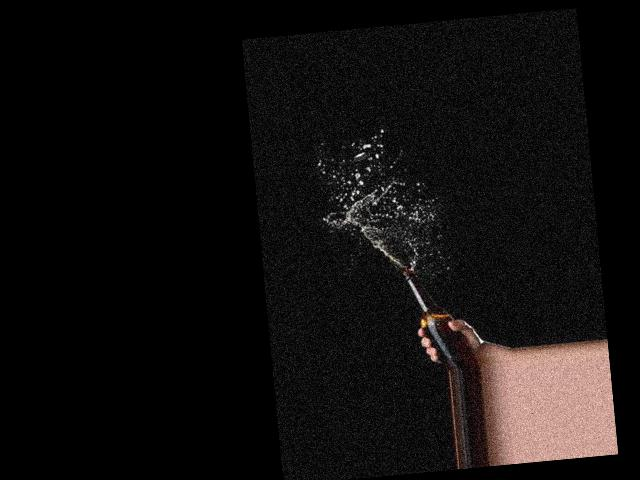beer: (401, 264, 482, 374)
